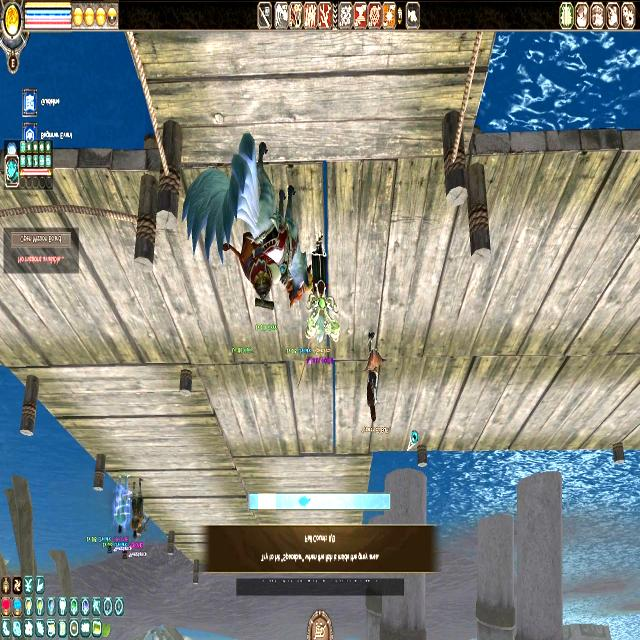box: (259, 487, 276, 508)
fishes: (298, 496, 311, 508)
